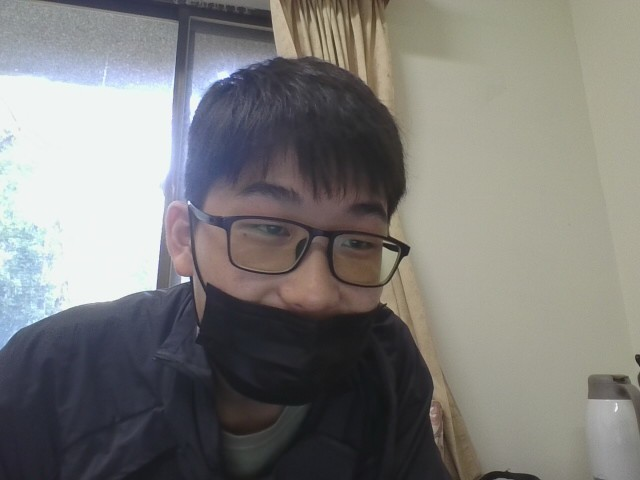No_Helmet: (161, 48, 413, 329)
person: (0, 38, 561, 479)
